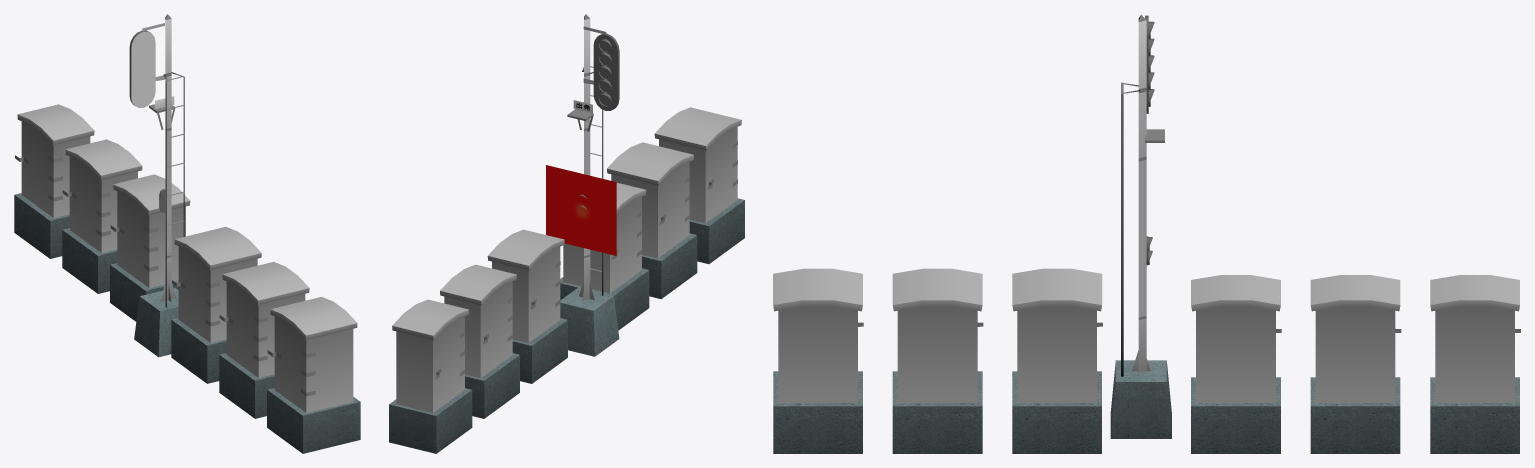
The model's file is SIGNAL_HK.glb.
3 renders of one model, left to right at view 1: azimuth 30°, elevation 25°; view 2: azimuth 150°, elevation 25°; view 3: azimuth 270°, elevation 25°, orthographic. The views are drawn at different scales.
Visible parts, largest first — view 1: box, box1, body, signal, signal_big; view 2: box1, box, light_mini, body, signal, signal_big; view 3: box, box1, body.
Part boxes in pixels (<box>): box: <box>171,227,360,453</box>; box1: <box>14,104,190,321</box>; body: <box>134,14,184,357</box>; signal: <box>129,30,155,80</box>; signal_big: <box>129,43,155,107</box>; box1: <box>389,229,567,453</box>; box: <box>560,107,744,330</box>; light_mini: <box>546,165,616,255</box>; body: <box>560,14,619,356</box>; signal: <box>593,33,619,84</box>; signal_big: <box>593,47,619,110</box>; box: <box>773,268,1102,453</box>; box1: <box>1191,275,1520,453</box>; body: <box>1110,14,1171,438</box>.
Size of the model in its own units: 4.38 by 17.08 by 28.13.
12 materials, 12 textured.
